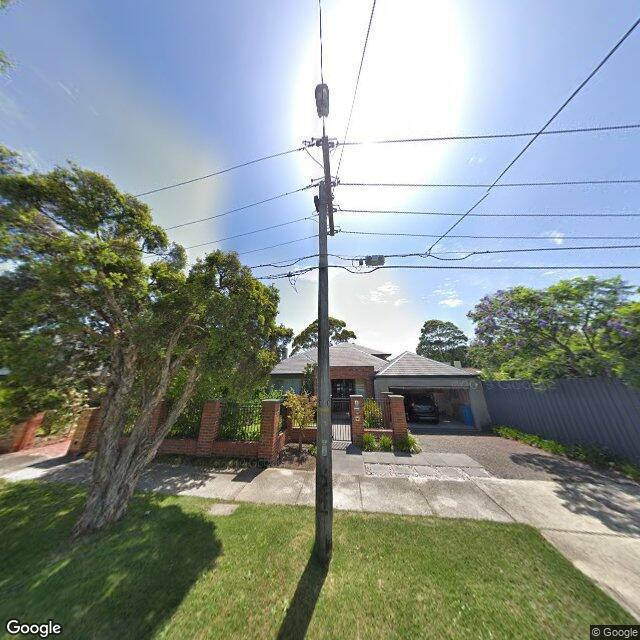crossarm: (322, 136, 334, 236)
streetlight: (314, 84, 329, 137)
timber-pole: (314, 181, 332, 563)
